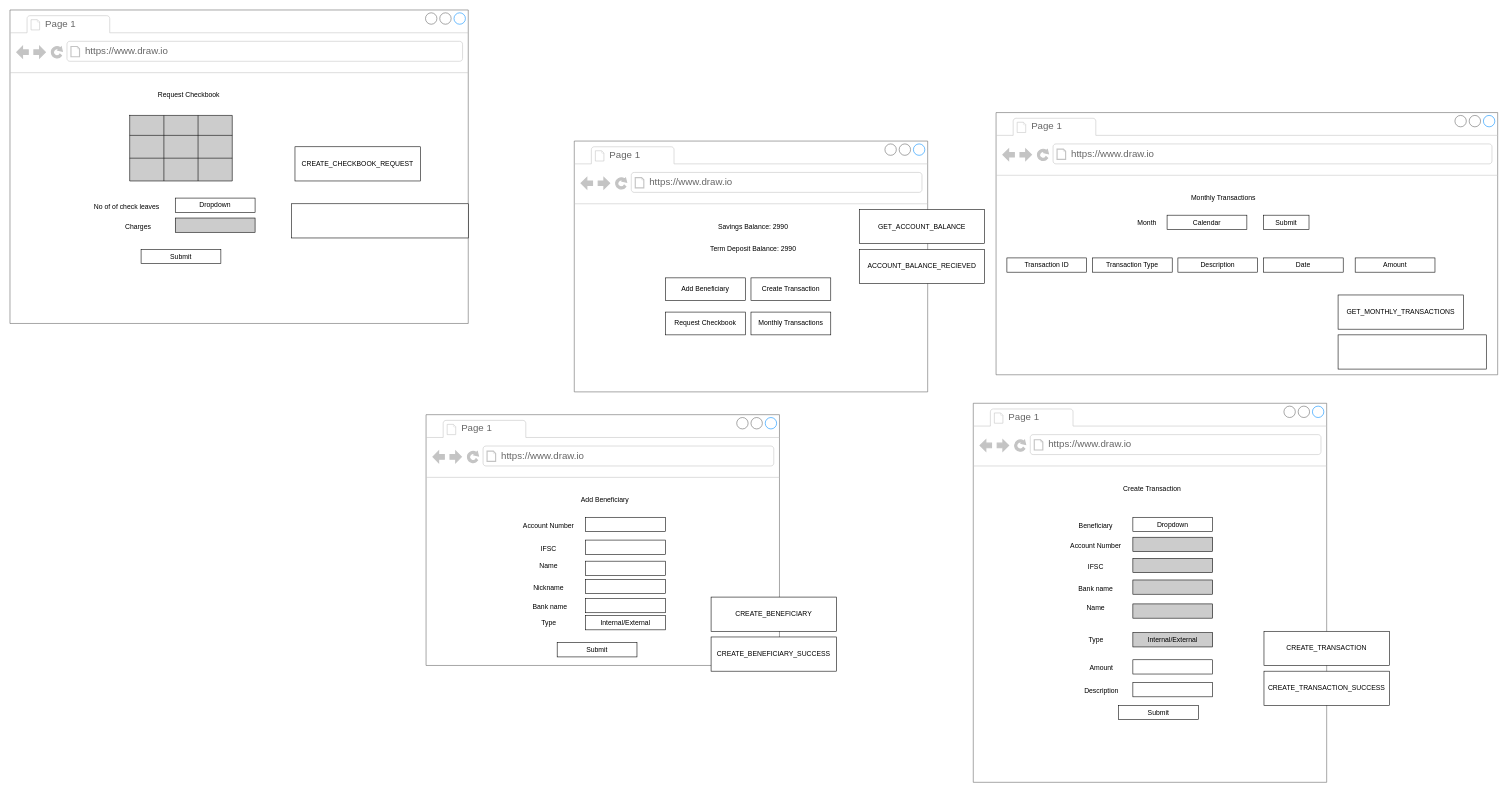
The diagram is 1508 pixels wide and 792 high, and some of its shapes have lost their labels. Here are the shapes that lost their labels. From the top down, the centre of each, then its label:
pixel 379 220: CREATE_CHECKBOOK_REQUEST_SUCCESS
pixel 1412 351: MONTHLY_TRANSACTIONS_RECIEVED
